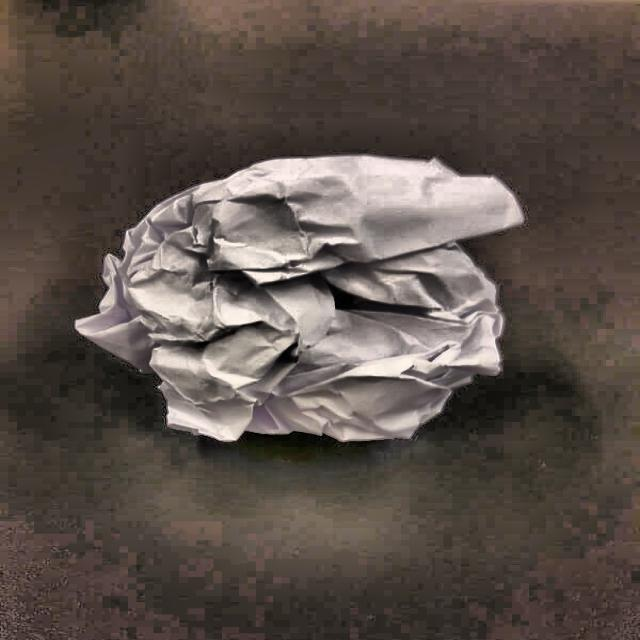Paper: (61, 140, 566, 460)
